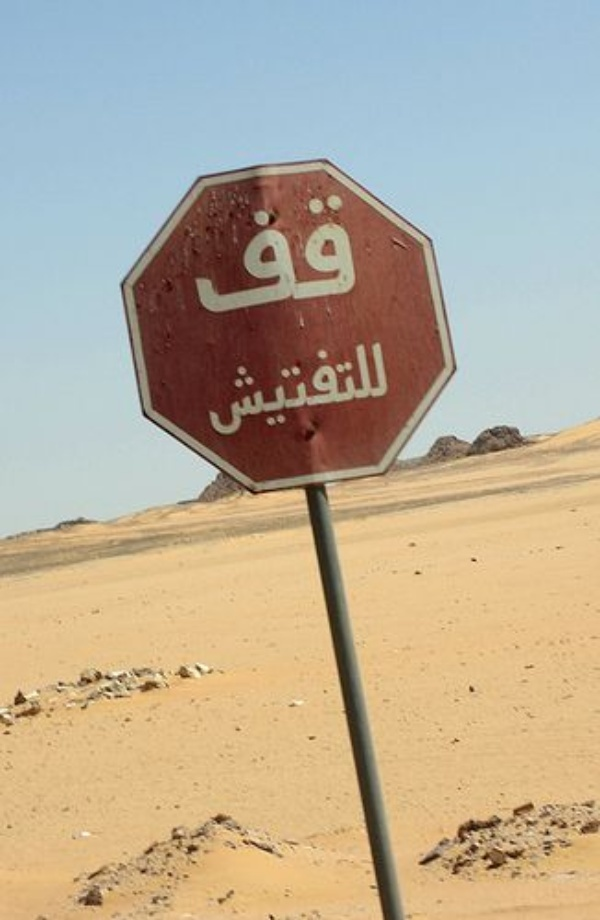text: (193, 192, 208, 317), (209, 192, 224, 317), (225, 192, 240, 317), (241, 192, 256, 317), (257, 192, 272, 317), (273, 192, 288, 317), (289, 192, 304, 317), (305, 192, 320, 317), (321, 192, 336, 317), (337, 192, 352, 317), (209, 339, 224, 440), (225, 339, 240, 440), (241, 339, 256, 440), (257, 339, 272, 440), (273, 339, 288, 440), (289, 339, 304, 440), (305, 339, 320, 440), (321, 339, 336, 440), (337, 339, 352, 440), (353, 339, 368, 440), (369, 339, 384, 440), (183, 192, 192, 317), (353, 192, 361, 317), (199, 339, 208, 440), (385, 339, 391, 440)
